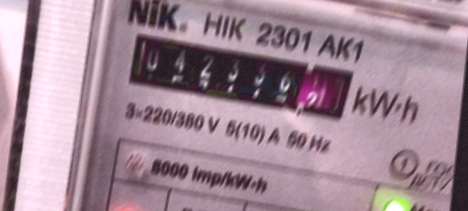0: (144, 43, 160, 73)
2: (195, 50, 216, 79)
3: (222, 53, 241, 84), (251, 57, 268, 87)
4: (170, 46, 188, 75)
6: (275, 66, 293, 94)
screen: (115, 23, 362, 129)
